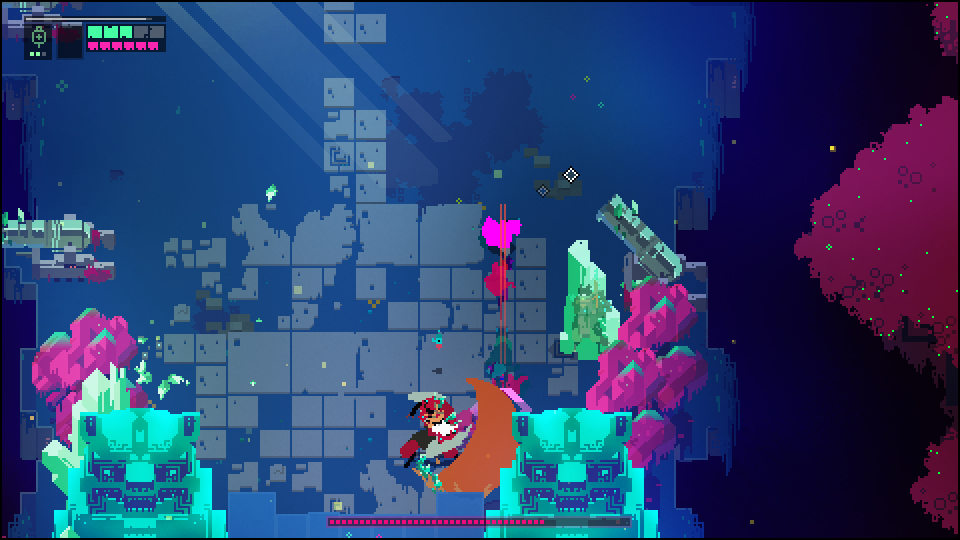hanged_man: (394, 384, 482, 502)
player: (480, 212, 522, 258)
